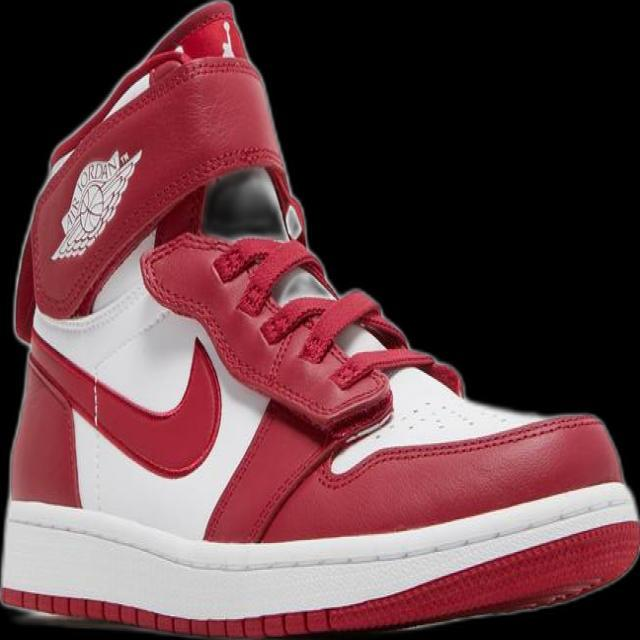J1_InsoleChar: (0, 0, 639, 639)
J1_MateComp: (11, 0, 310, 346)
J1_ShoeLogo: (50, 146, 143, 261)
J1_StitchPattern: (0, 480, 639, 636), (140, 227, 465, 436), (206, 235, 416, 388), (325, 407, 602, 478), (0, 587, 335, 638), (256, 285, 410, 368), (397, 393, 478, 436), (216, 17, 238, 60)
